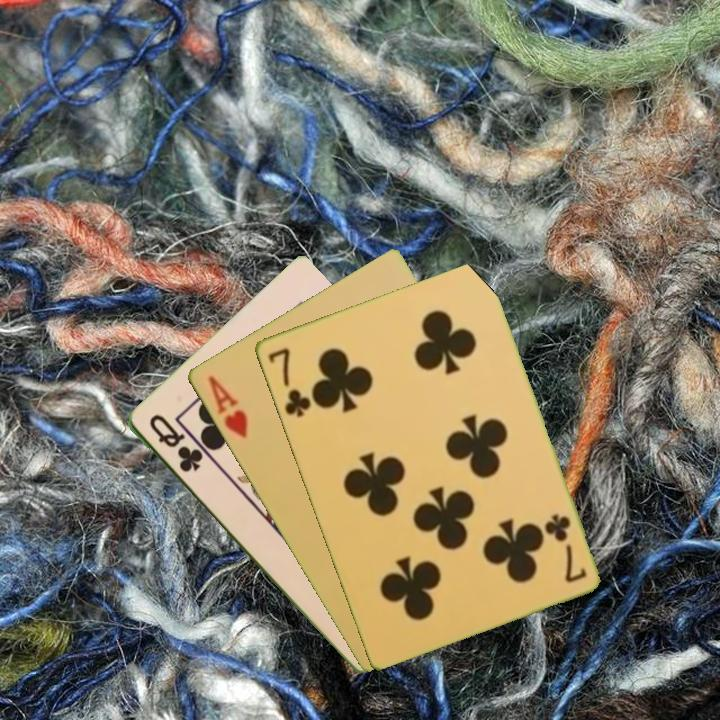7c: (264, 344, 314, 420), (541, 510, 589, 585)
Ah: (203, 372, 250, 442)
Qc: (144, 410, 206, 475)
